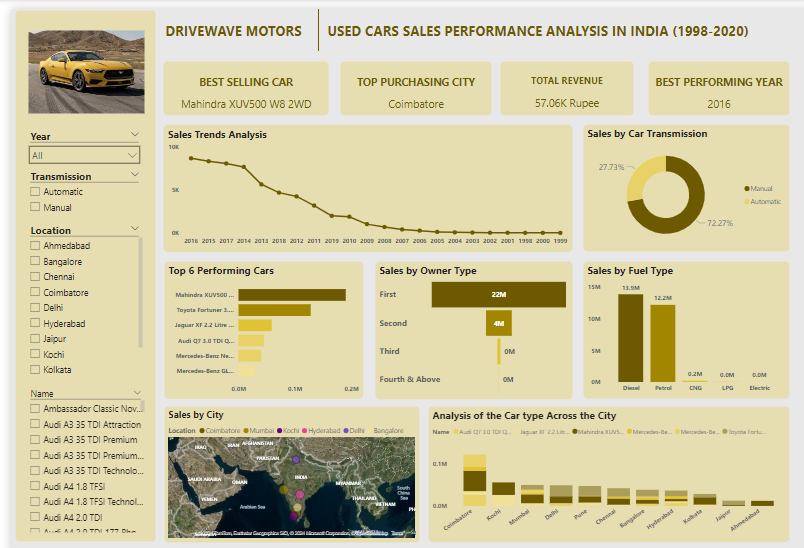

This screenshot's page, from the dashboard's own definition file:
{"tool":"powerbi","page":{"name":"Page 1","canvas":[1600,1100],"ordinal":0},"visuals":[{"type":"textbox","box":[8.9,2.2,282.2,1064.4],"z":0},{"type":"lineChart","title":"Sales Trends Analysis","fields":{"Y":["Sum(used_cars_data.Price)"],"Category":["used_cars_data.Year"]},"box":[304.4,229.1,819.8,256.9],"z":1000},{"type":"textbox","box":[304,2,1254,102],"z":2000},{"type":"barChart","title":"Top 6 Performing Cars","fields":{"Category":["used_cars_data.Name"],"Y":["Sum(used_cars_data.S.No.)"]},"box":[305.7,504.3,398.6,277.1],"z":3000},{"type":"columnChart","title":"Sales by Fuel Type","fields":{"Category":["used_cars_data.Fuel_Type"],"Y":["Sum(used_cars_data.S.No.)"]},"box":[1144,504,414,276],"z":4000},{"type":"map","title":"Sales by City","fields":{"Size":["Sum(used_cars_data.Price)"],"Category":["used_cars_data.Location"],"Series":["used_cars_data.Location"]},"box":[306,794,512,274],"z":5000},{"type":"donutChart","title":"Sales by Car Transmission","fields":{"Category":["used_cars_data.Transmission"],"Y":["Sum(used_cars_data.S.No.)"]},"box":[1144,230,414,256],"z":6000},{"type":"columnChart","title":"Analysis of the Car type Across the City","fields":{"Category":["used_cars_data.Location"],"Series":["used_cars_data.Name"],"Y":["Sum(used_cars_data.S.No.)"]},"box":[834.3,794.3,724.3,272.9],"z":7000},{"type":"funnel","title":"Sales by Owner Type","fields":{"Category":["used_cars_data.Owner_Type"],"Y":["Sum(used_cars_data.S.No.)"]},"box":[728,504,396,278],"z":8000},{"type":"textbox","box":[304,104,332,110],"z":9000},{"type":"textbox","box":[658,104,304,110],"z":10000},{"type":"textbox","box":[1274,104,284,110],"z":11000},{"type":"textbox","box":[978,104,268,110],"z":12000},{"type":"shape","box":[562,0,106,84],"z":13000},{"type":"image","box":[30,38,242,176],"z":14000},{"type":"slicer","fields":{"Values":["used_cars_data.Name"]},"box":[26,752,246,300],"z":15000},{"type":"slicer","fields":{"Values":["used_cars_data.Year"]},"box":[26,234,242,96],"z":16000},{"type":"slicer","fields":{"Values":["used_cars_data.Transmission"]},"box":[26,314,242,108],"z":17000},{"type":"slicer","fields":{"Values":["used_cars_data.Location"]},"box":[26,422,242,314],"z":18000}]}

Visuals, with their boxes on the page's 1600x1100 design canvas (x1, y1, x2, y2). These are canvas units, not pixel positions in the 804x548 screenshot, which may show the page scaled, cropped or inside an application window:
textbox: bbox=[9, 2, 291, 1067]
"Sales Trends Analysis" lineChart: bbox=[304, 229, 1124, 486]
textbox: bbox=[304, 2, 1558, 104]
"Top 6 Performing Cars" barChart: bbox=[306, 504, 704, 781]
"Sales by Fuel Type" columnChart: bbox=[1144, 504, 1558, 780]
"Sales by City" map: bbox=[306, 794, 818, 1068]
"Sales by Car Transmission" donutChart: bbox=[1144, 230, 1558, 486]
"Analysis of the Car type Across the City" columnChart: bbox=[834, 794, 1559, 1067]
"Sales by Owner Type" funnel: bbox=[728, 504, 1124, 782]
textbox: bbox=[304, 104, 636, 214]
textbox: bbox=[658, 104, 962, 214]
textbox: bbox=[1274, 104, 1558, 214]
textbox: bbox=[978, 104, 1246, 214]
shape: bbox=[562, 0, 668, 84]
image: bbox=[30, 38, 272, 214]
slicer - used_cars_data.Name: bbox=[26, 752, 272, 1052]
slicer - used_cars_data.Year: bbox=[26, 234, 268, 330]
slicer - used_cars_data.Transmission: bbox=[26, 314, 268, 422]
slicer - used_cars_data.Location: bbox=[26, 422, 268, 736]
